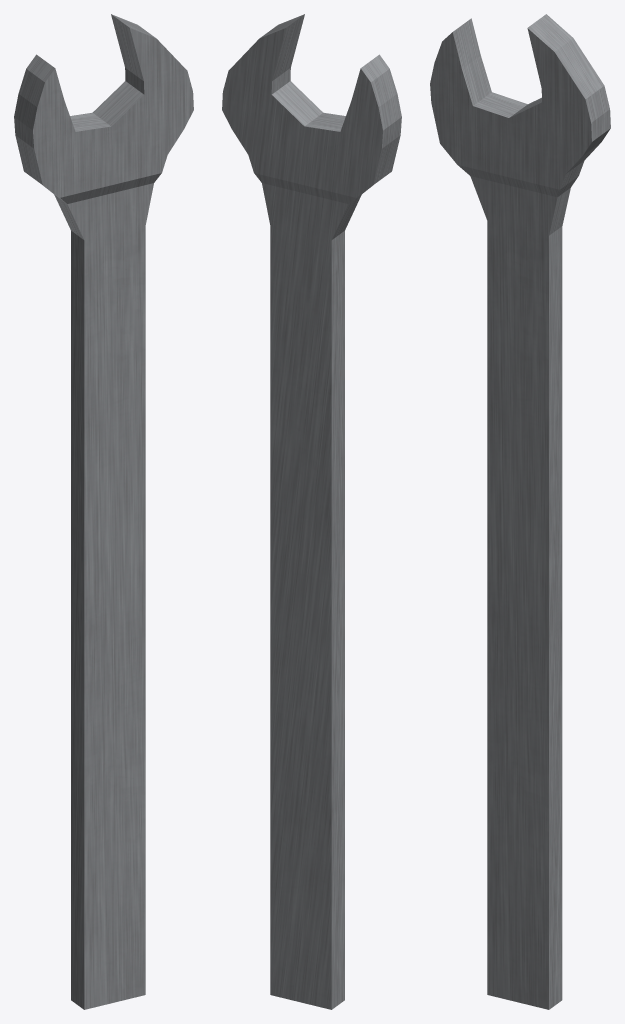
The model's file is wrench01.fbx.
3 views of the same model, side by side, from view 1: azimuth 30°, elevation 25°; view 2: azimuth 150°, elevation 25°; view 3: azimuth 330°, elevation 25° (orthographic).
Visible parts, largest first — view 1: wrench; view 2: wrench; view 3: wrench.
Part boxes in pixels (bbox=[...]): wrench: bbox=[14, 14, 193, 1009]; wrench: bbox=[222, 14, 401, 1009]; wrench: bbox=[430, 14, 610, 1009].
Size of the model in its own units: 8.16 by 47.16 by 1.66.
